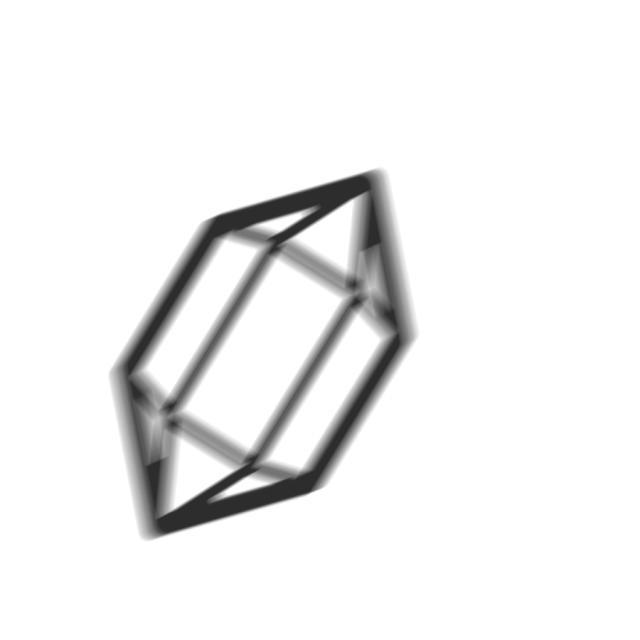crystal: (102, 163, 429, 550)
